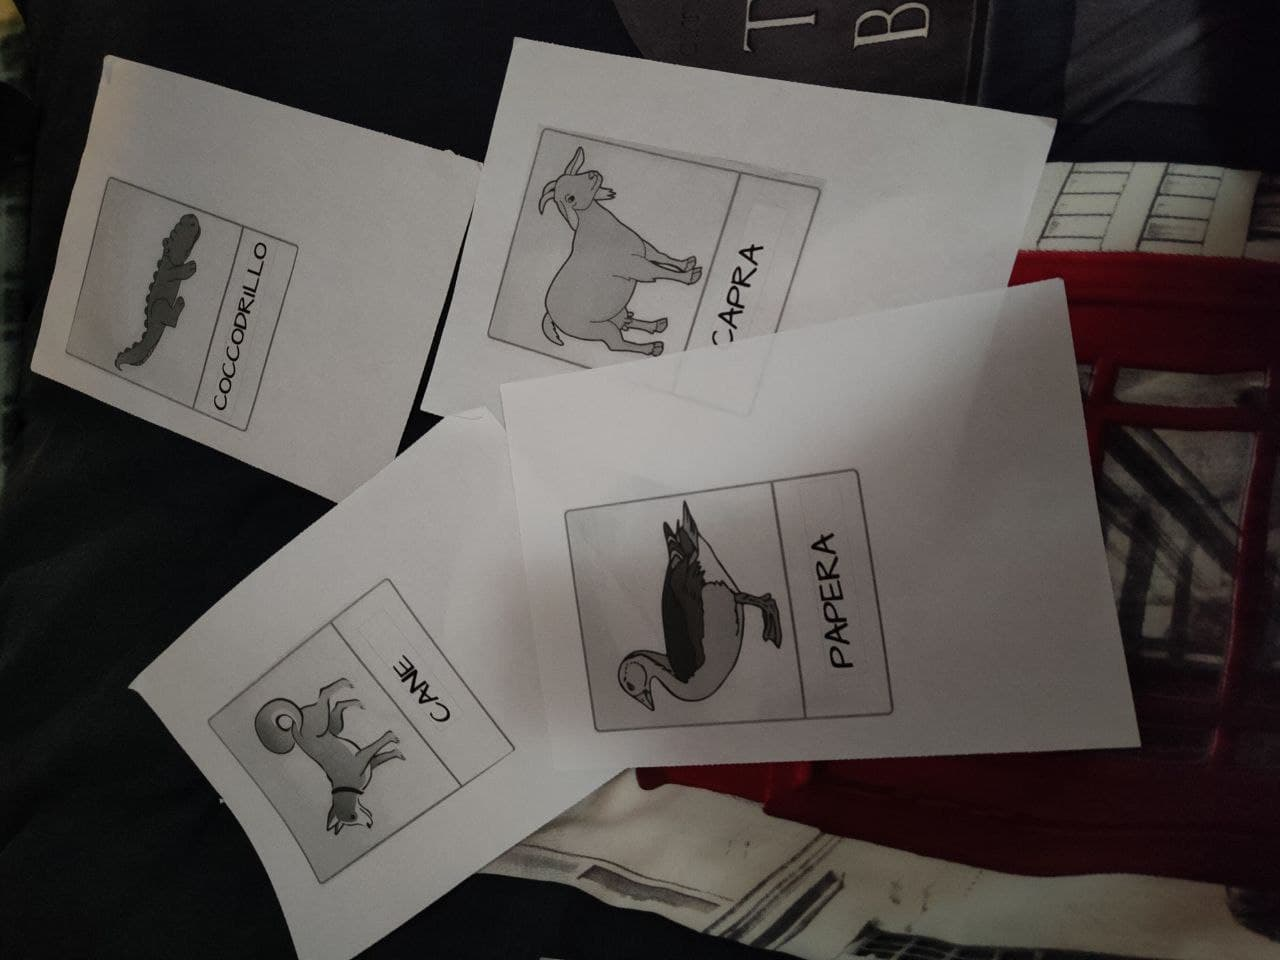cane: (240, 645, 487, 843)
capra: (523, 142, 779, 382)
coccodrillo: (90, 205, 298, 420)
papera: (580, 493, 900, 735)
